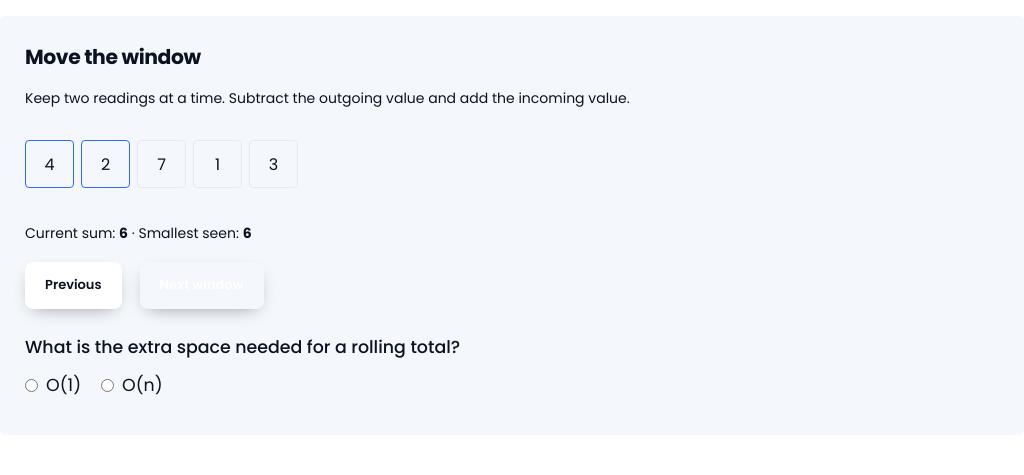
Test case: Interview Studio workflows › shows real window totals and teaches the space invariant
The image size is (1024, 475).
Click the button "Next window".
click(202, 286)  # box [140,262,264,309]
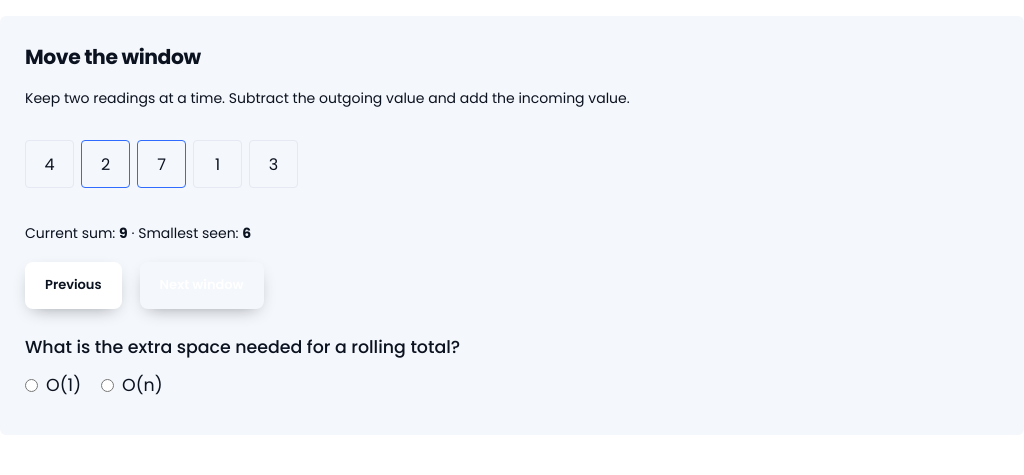
Check: the text "9" is shown, box [119,223,128,243]
Click the radio button labelled "O(1)".
click(32, 386)  # box [25,379,38,392]
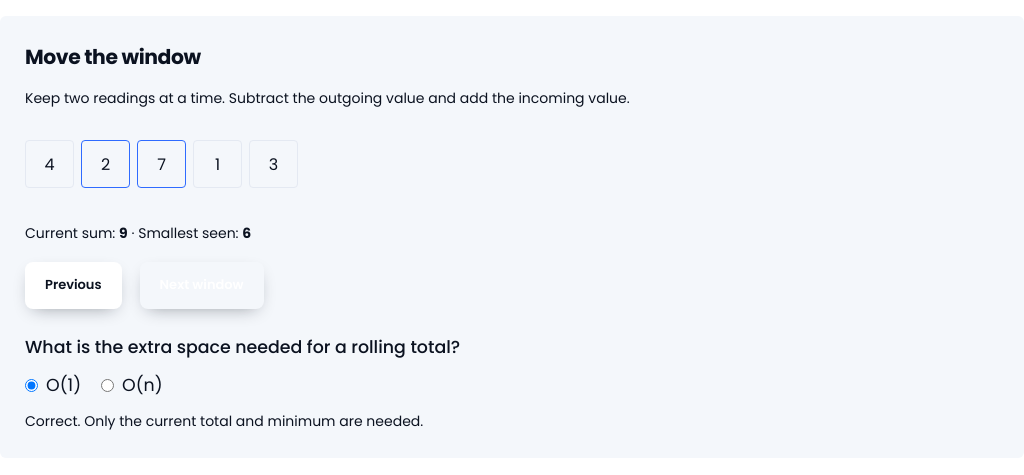
Check: the message shows "Correct", box [25,411,423,431]
